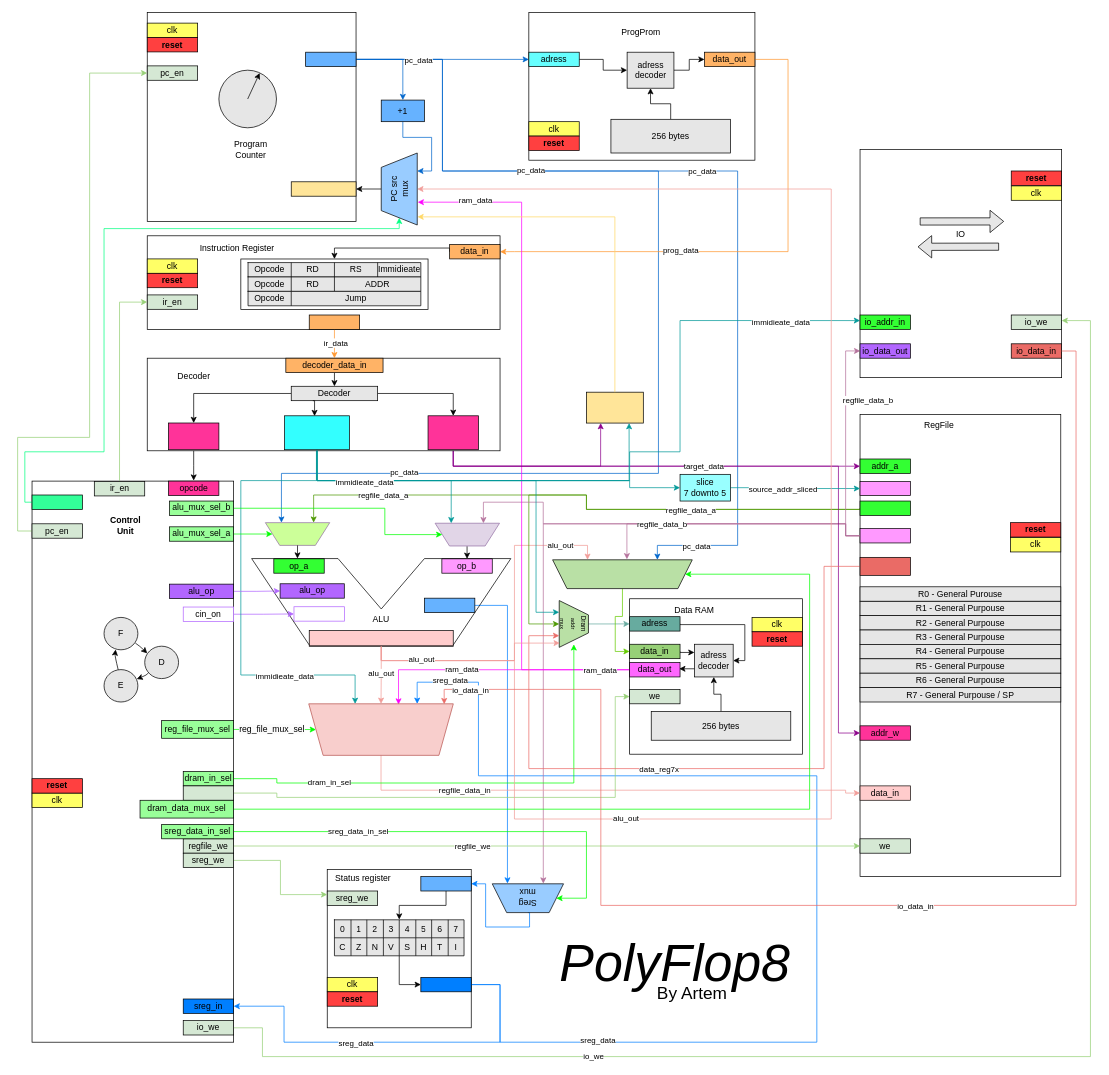
The diagram is 1109 pixels wide and 1075 high, and some of its shapes have lost their labels. Each missing label, with the box of its shape:
addr_b: (859, 481, 910, 496)
alu mux a: (265, 522, 330, 545)
alu mux b: (434, 523, 500, 546)
alu_flags: (420, 876, 471, 891)
cin: (293, 606, 344, 621)
concatenate to 11 bit adress: (586, 391, 643, 423)
data_a: (859, 500, 910, 515)
data_b: (859, 528, 910, 543)
data_r7x: (859, 557, 910, 575)
Dram data mux: (552, 559, 692, 589)
flags: (424, 597, 475, 613)
IR (RD) Target (10:8): (427, 415, 478, 450)
IR (RS/IMM) immidieate data (7:0): (284, 415, 349, 450)
ir_data_out: (309, 314, 360, 329)
jump_data: (291, 181, 356, 196)
mem_we: (183, 785, 234, 800)
opcode (15:11): (168, 422, 219, 450)
pc_out: (305, 51, 356, 67)
pc_src: (31, 494, 82, 509)
Regfile mux: (308, 703, 453, 755)
result: (309, 630, 453, 646)
sreg_out: (420, 977, 471, 992)
